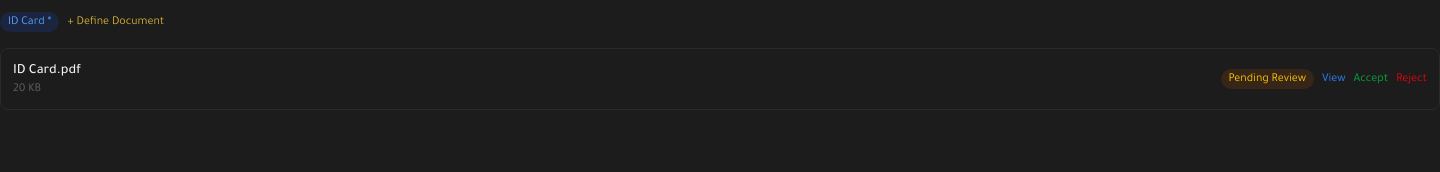
Test: FilesTab (characterization) › lets a super admin approve a pending file, updating it in place
Click the button "Accept" at {"x": 1371, "y": 79}, box [1354,71,1388,87]
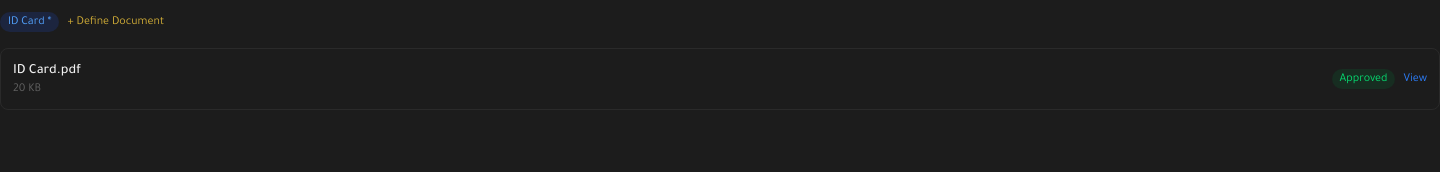
Now the button "Accept" is gone
